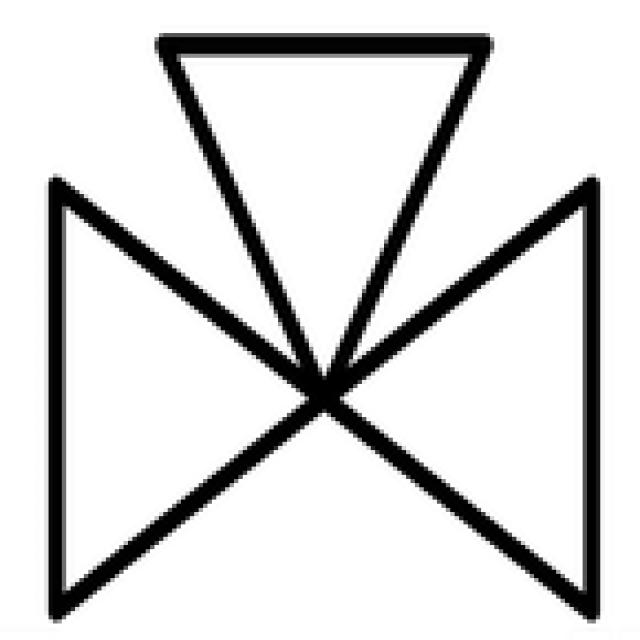3-way Valve: (57, 43, 596, 613)
